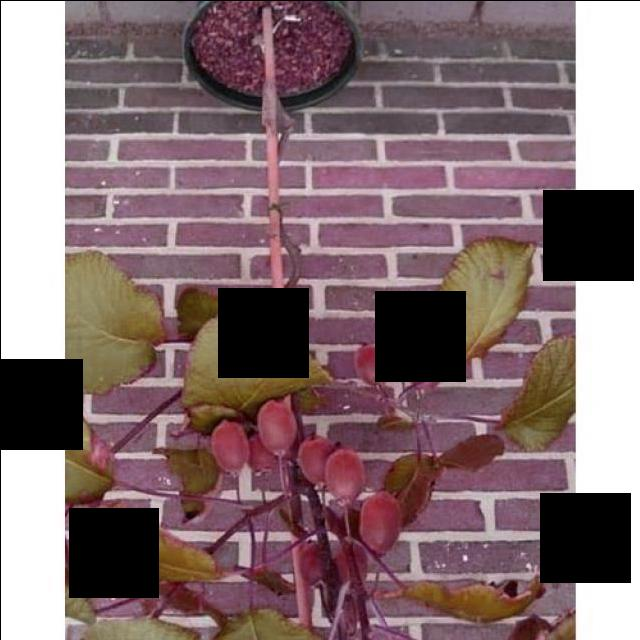kiwi: (360, 493, 402, 556), (324, 448, 364, 507), (256, 400, 293, 457), (212, 421, 247, 472), (408, 349, 441, 395), (335, 550, 368, 596), (356, 344, 387, 389), (384, 335, 417, 377), (245, 433, 275, 479), (299, 548, 325, 590)
